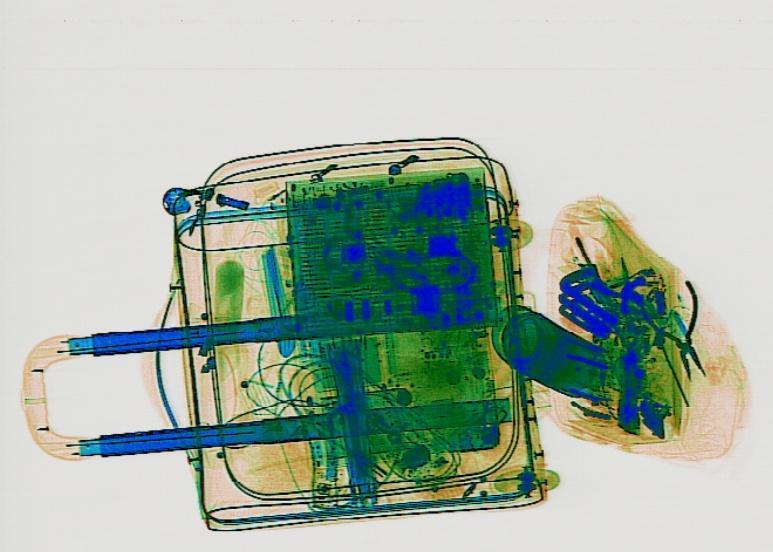Pliers: (630, 278, 733, 382)
